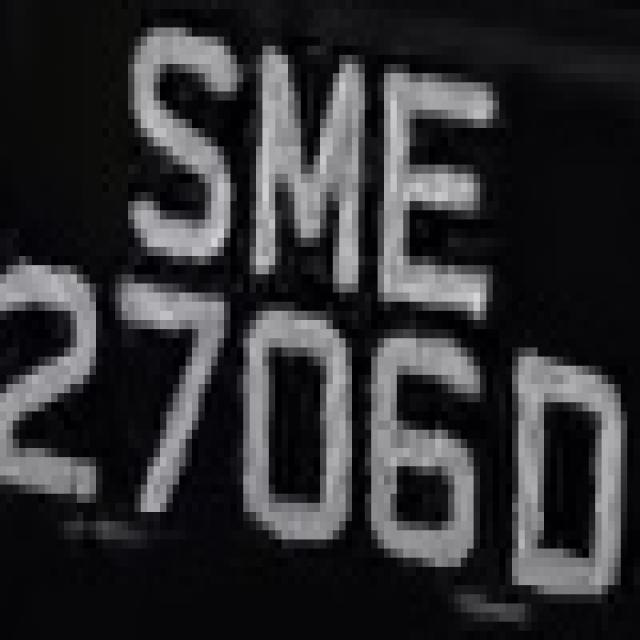0: (237, 265, 365, 540)
2: (6, 220, 109, 548)
6: (365, 284, 480, 585)
7: (84, 229, 230, 530)
D: (486, 338, 634, 622)
E: (358, 37, 512, 338)
M: (237, 27, 371, 311)
S: (102, 9, 269, 274)
